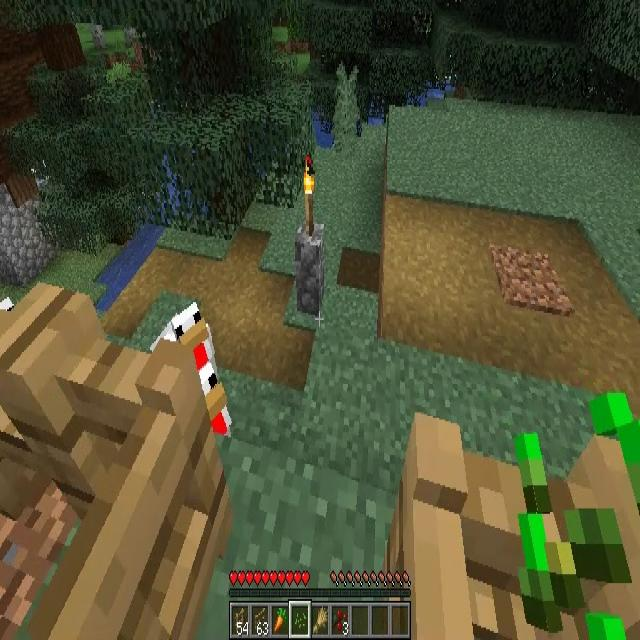duck: (150, 303, 217, 387), (193, 364, 233, 437)
